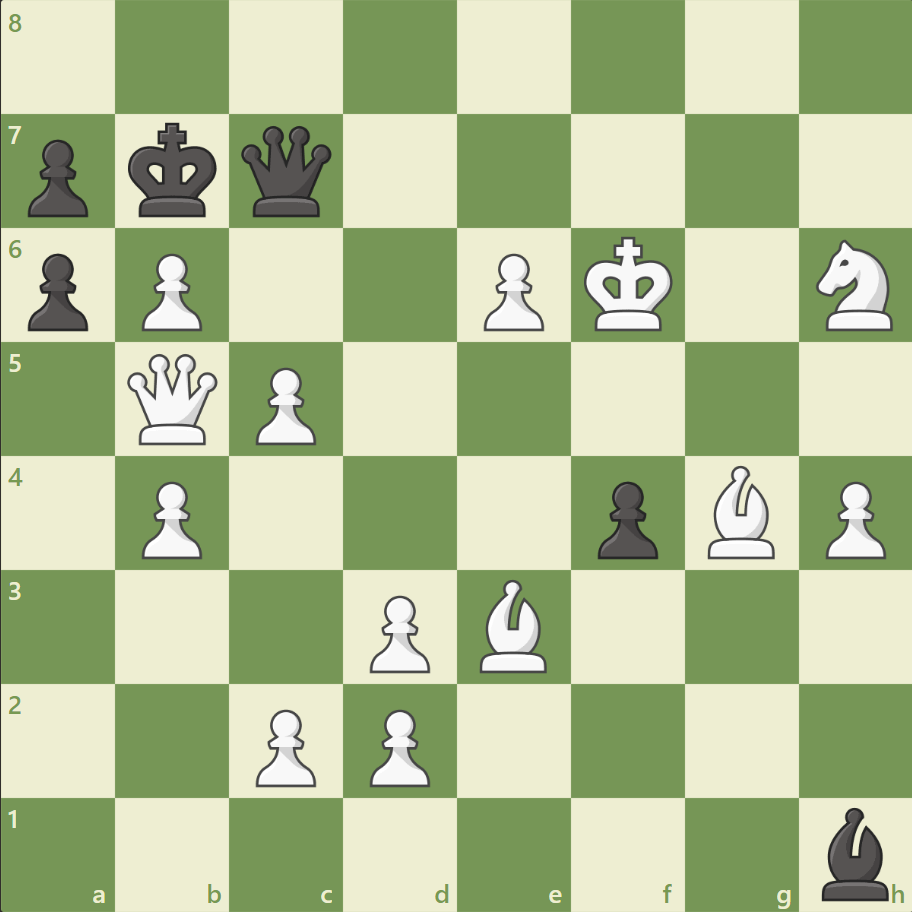B: (698, 460, 782, 563), (471, 574, 555, 676)
K: (579, 231, 679, 339)
N: (806, 234, 903, 337)
P: (133, 246, 208, 337), (474, 246, 549, 337), (247, 359, 322, 450), (133, 473, 208, 564), (247, 700, 322, 791), (815, 473, 889, 564), (361, 586, 435, 677), (361, 700, 435, 791)
Q: (124, 349, 223, 449)
b: (812, 801, 896, 904)
k: (124, 117, 224, 225)
p: (20, 132, 95, 223), (20, 246, 95, 337), (588, 473, 662, 564)
q: (237, 122, 336, 222)
